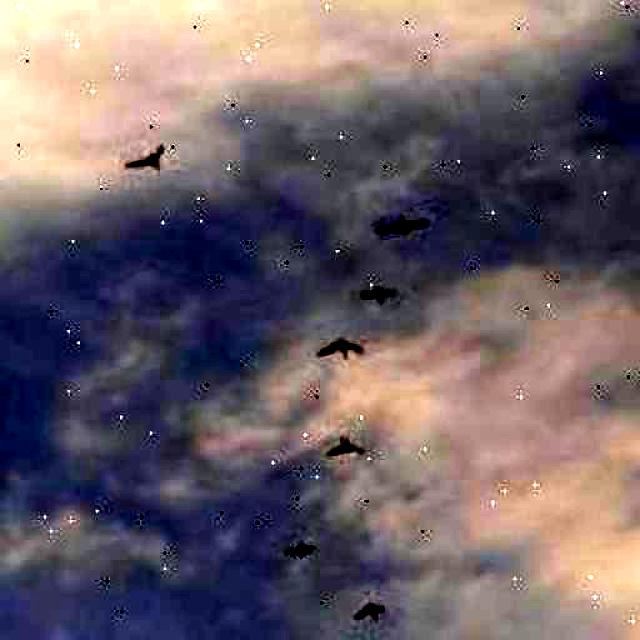airplane: (372, 208, 431, 241), (121, 144, 169, 180), (321, 430, 369, 464), (314, 334, 362, 362), (352, 600, 389, 624), (361, 284, 395, 308), (282, 535, 316, 559)
